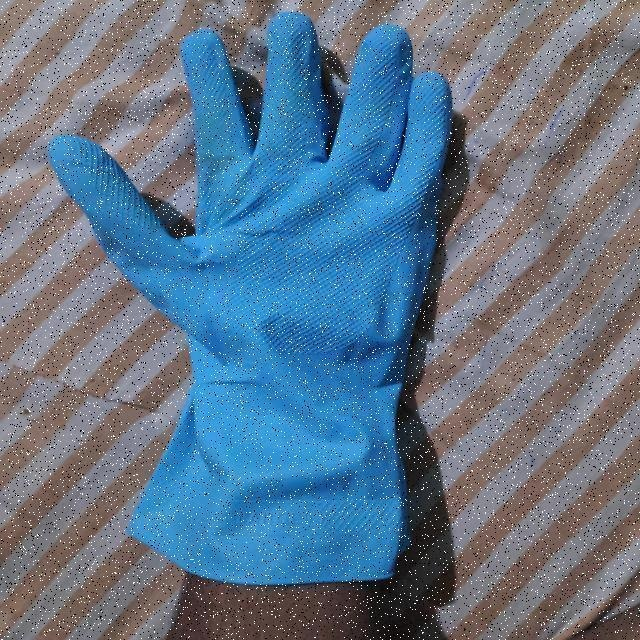Guantes: (46, 11, 453, 585)
